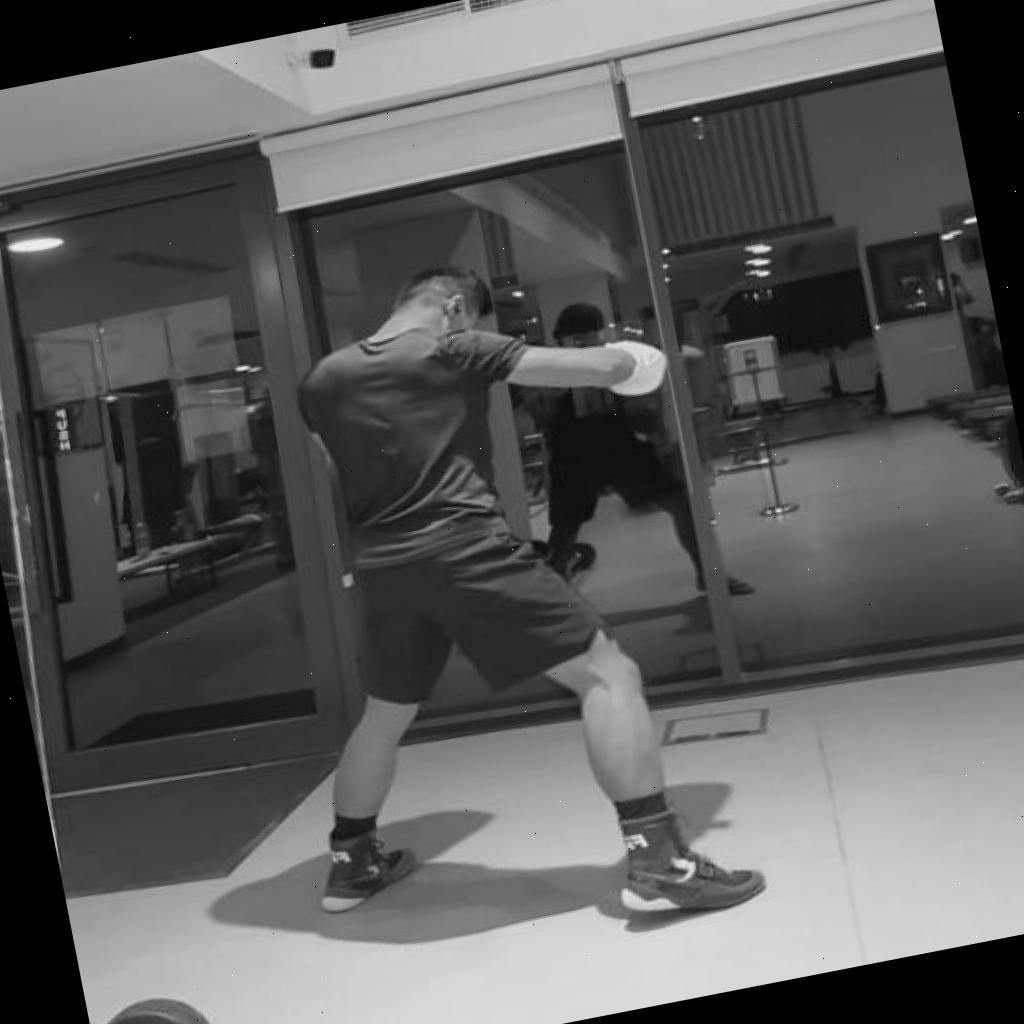hook: (201, 221, 780, 992)
